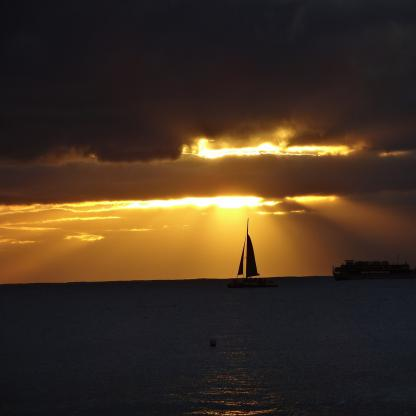Container Ship: (332, 259, 416, 277)
